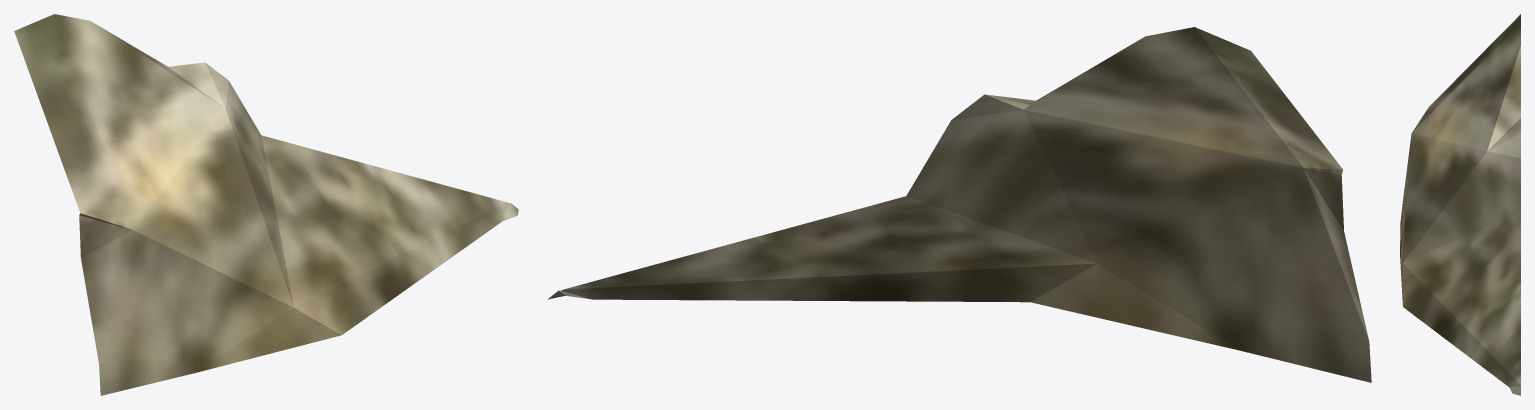
3 renders of one model, left to right at view 1: azimuth 30°, elevation 25°; view 2: azimuth 150°, elevation 25°; view 3: azimuth 270°, elevation 25°, orthographic. The views are drawn at different scales.
Size of the model in its own units: 1 by 0.5857 by 0.2981.
1 material, 1 textured.
